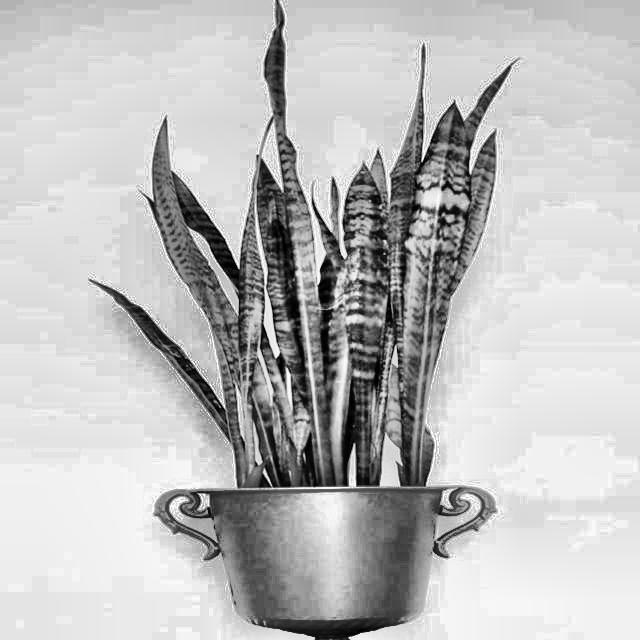plants: (88, 6, 540, 586)
